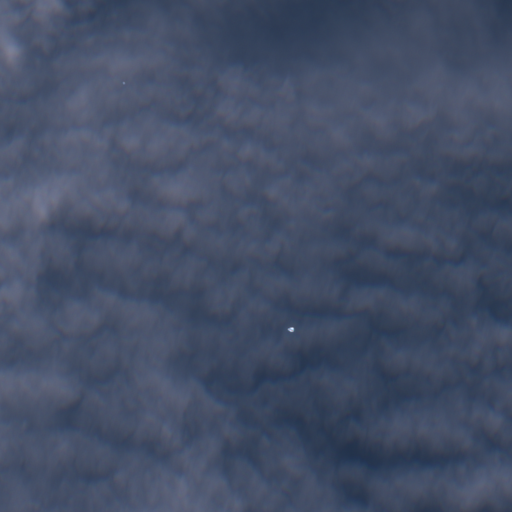Iceberg: (287, 327, 293, 331), (123, 82, 124, 83)
